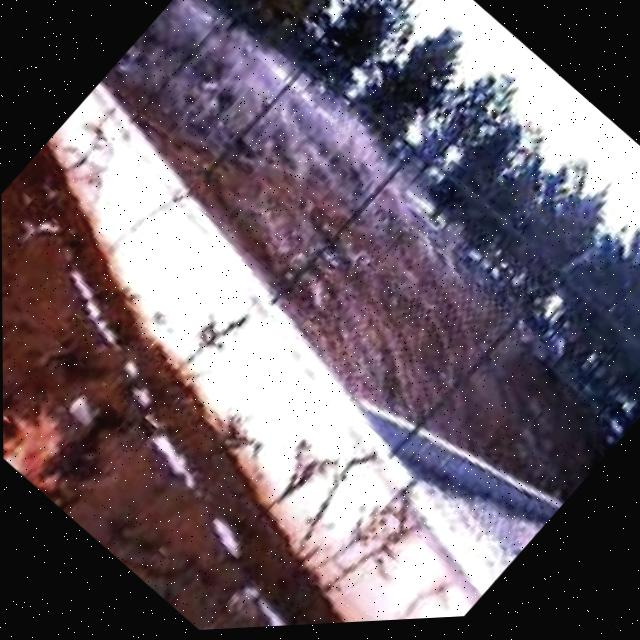Fire: (2, 343, 110, 513)
